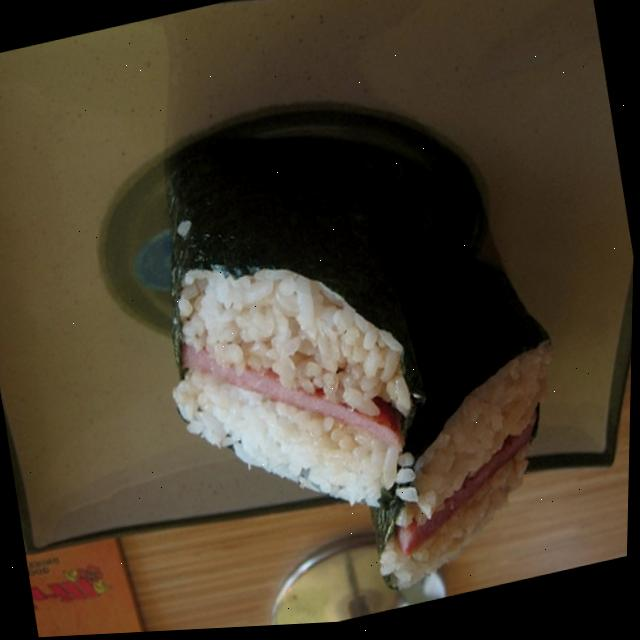寿司卷物: (66, 54, 622, 637)
